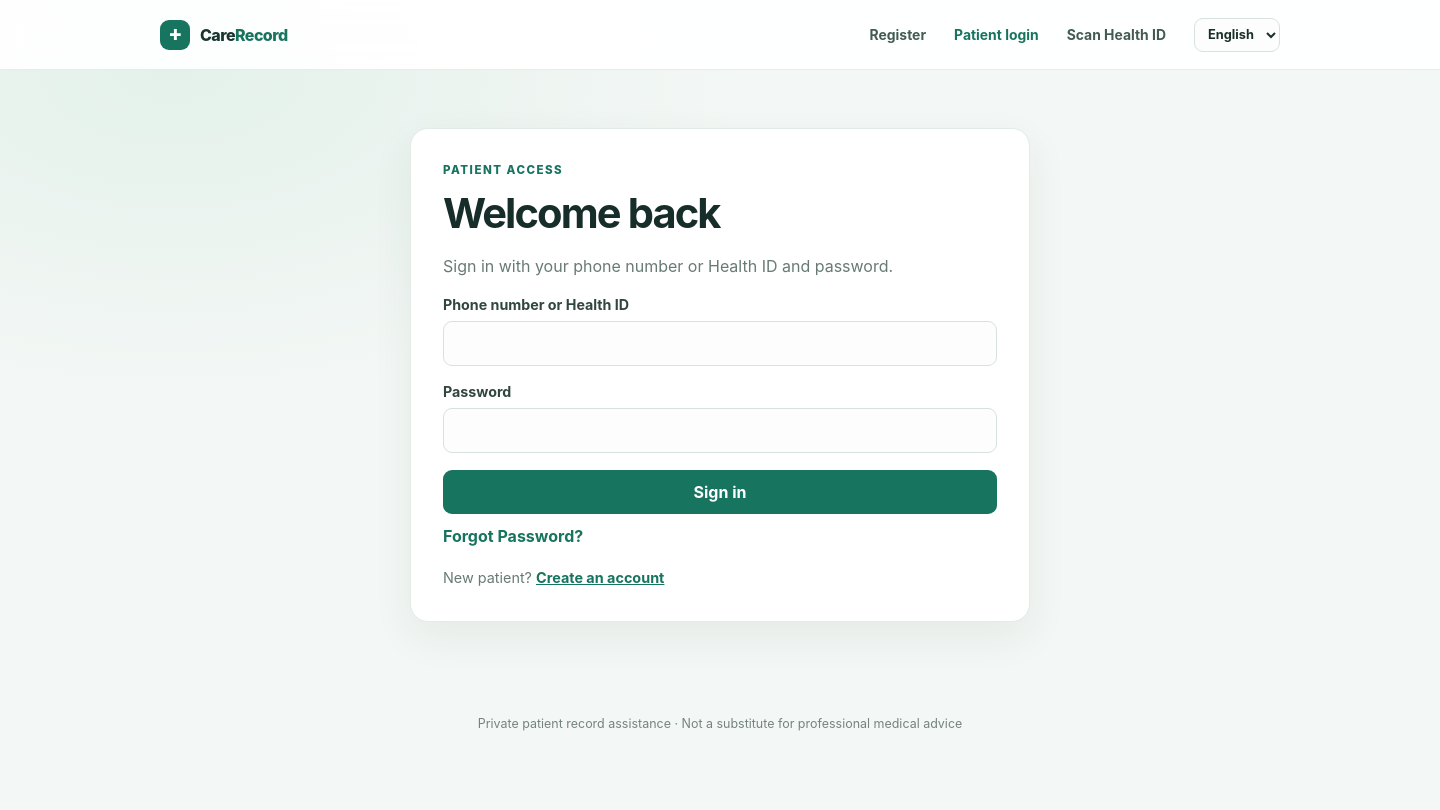
Scenario: patient web flow › shows network failures clearly
The width and height of the screenshot is (1440, 810).
Type "MW123" into the field labelled "Phone number or Health ID".
click(720, 344); type("MW123")  # box [443,321,997,366]
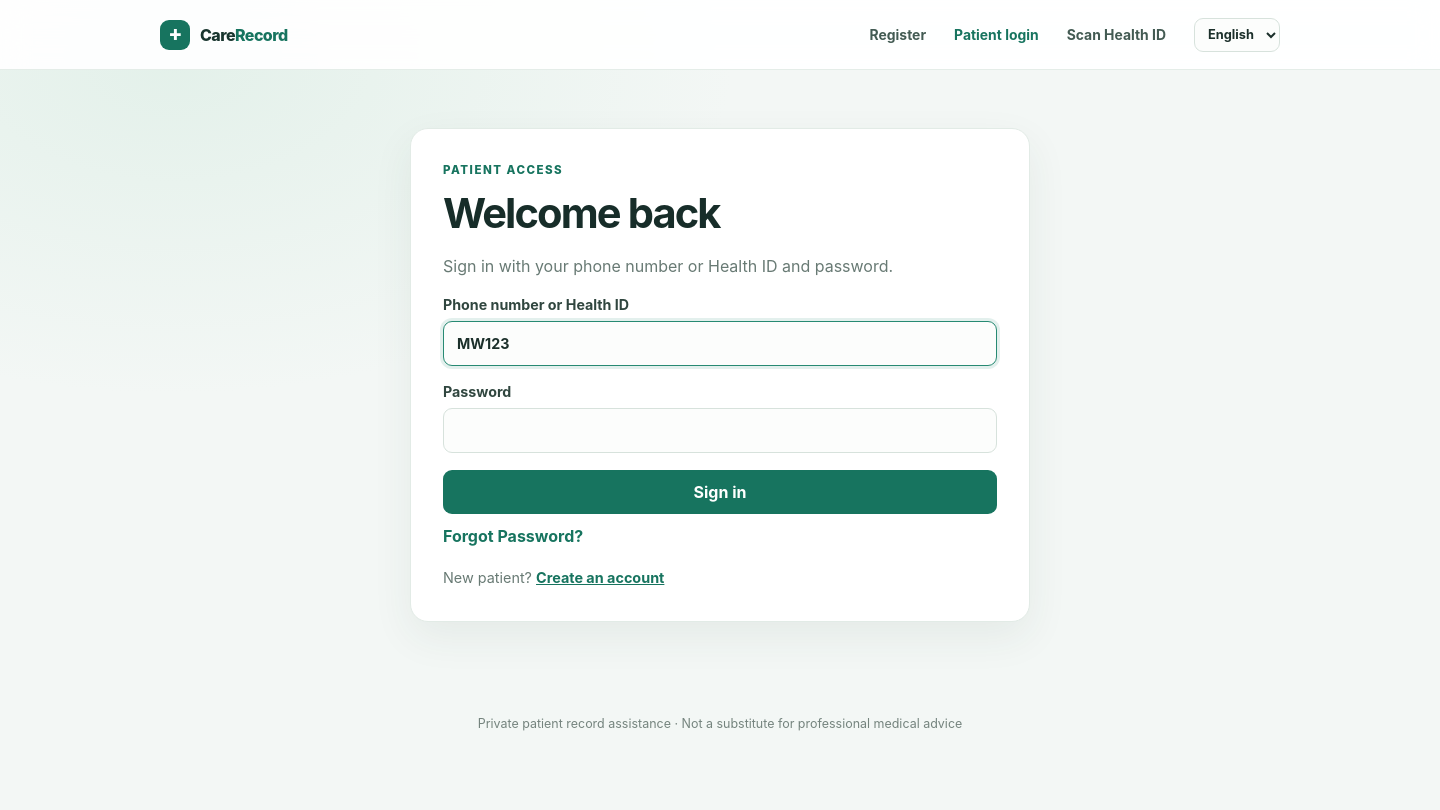
Type "long-enough-password" into the password field labelled "Password".
click(720, 430); type("long-enough-password")  # box [443,408,997,453]
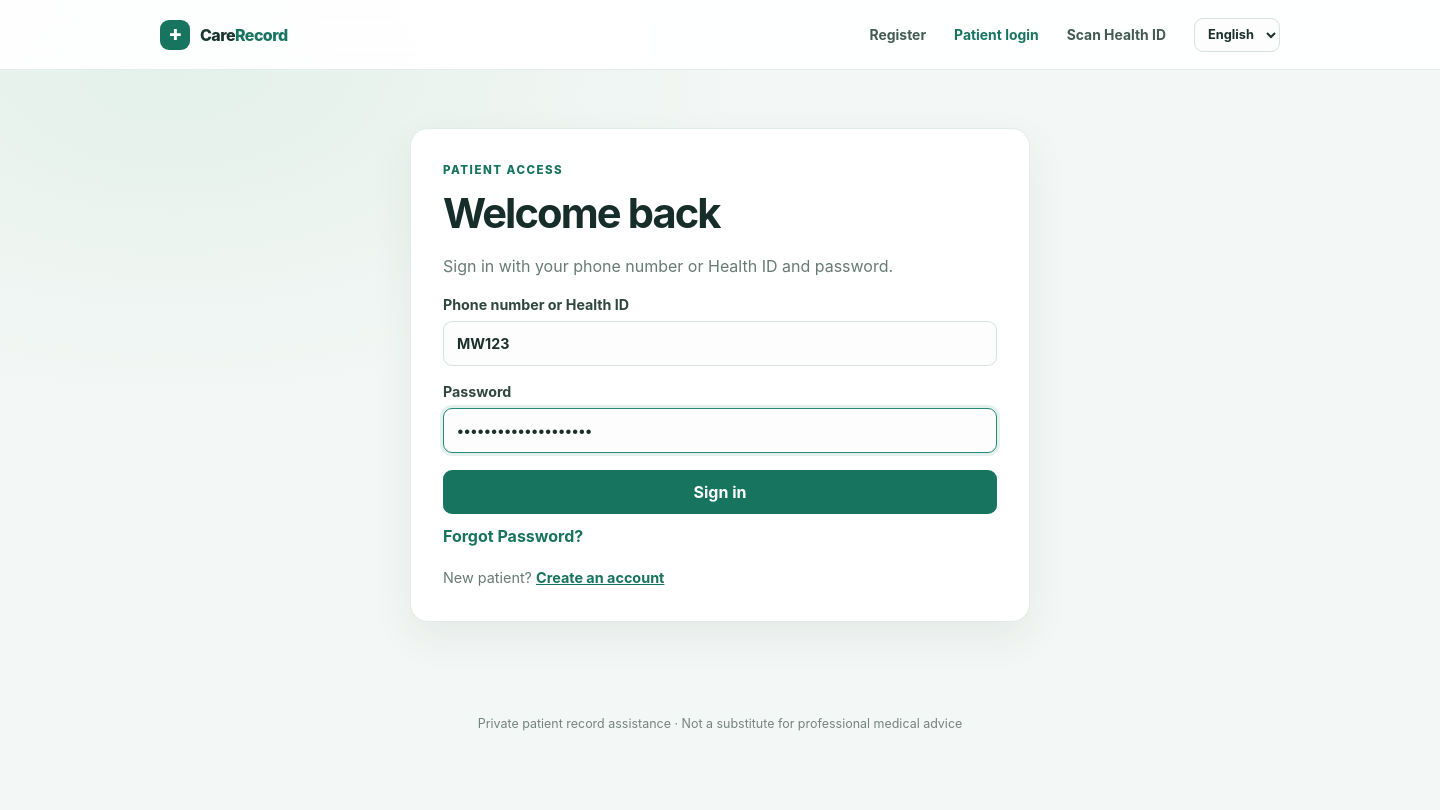
Click the button "Sign in".
click(720, 492)  # box [443,470,997,514]
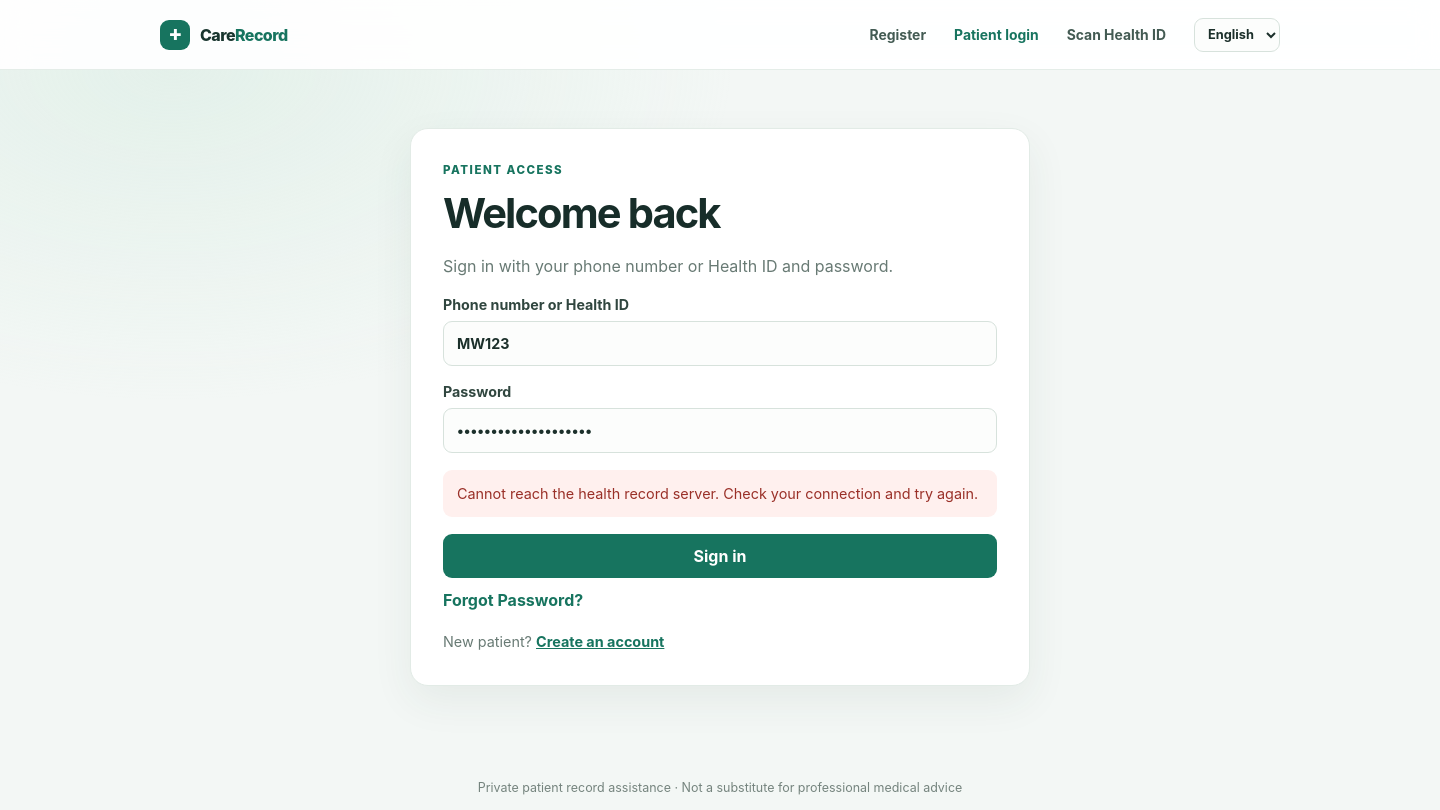
Check: the message shows "Cannot reach the health record server", box [457,485,978,502]
